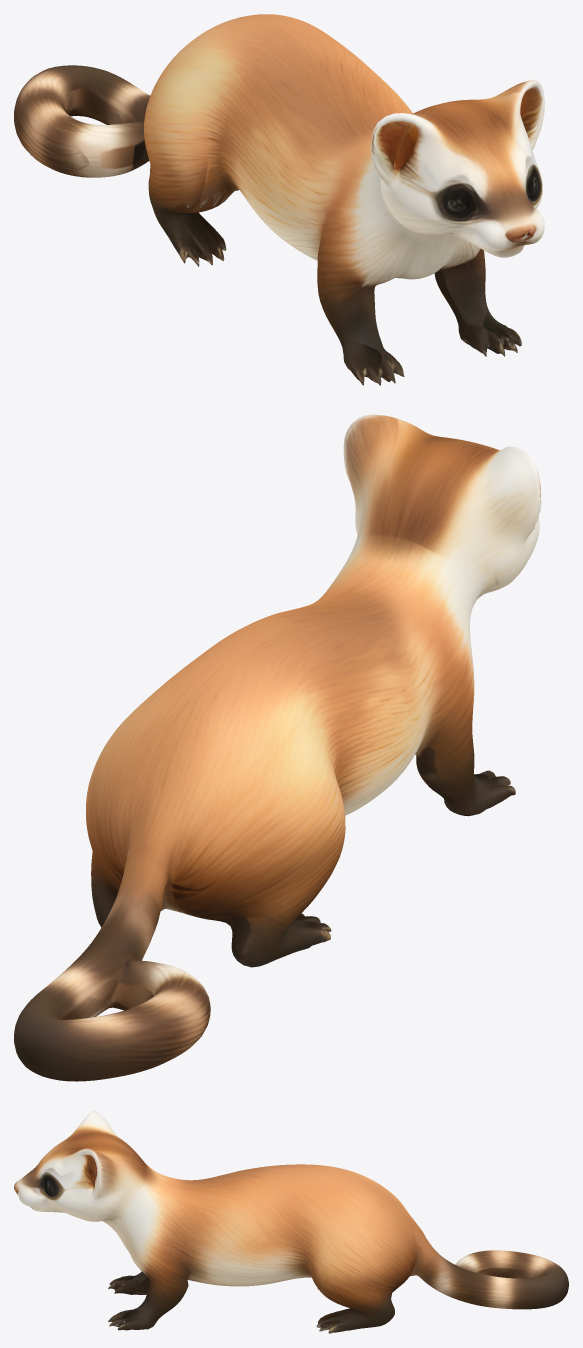
Rendered from blackFootedFerret.glb.
3 renders of one model, top to bottom at view 1: azimuth 30°, elevation 25°; view 2: azimuth 150°, elevation 25°; view 3: azimuth 270°, elevation 25°, orthographic. The views are drawn at different scales.
Visible parts, largest first — view 1: model; view 2: model; view 3: model.
Boxes of the visible parts, box(x1,y1,x2,y2) form: model: box(14, 14, 544, 385); model: box(14, 414, 563, 1081); model: box(14, 1110, 568, 1333).
Size of the model in its own units: 0.503 by 0.6726 by 1.9.
Materials: 1 (1 with a texture image).
